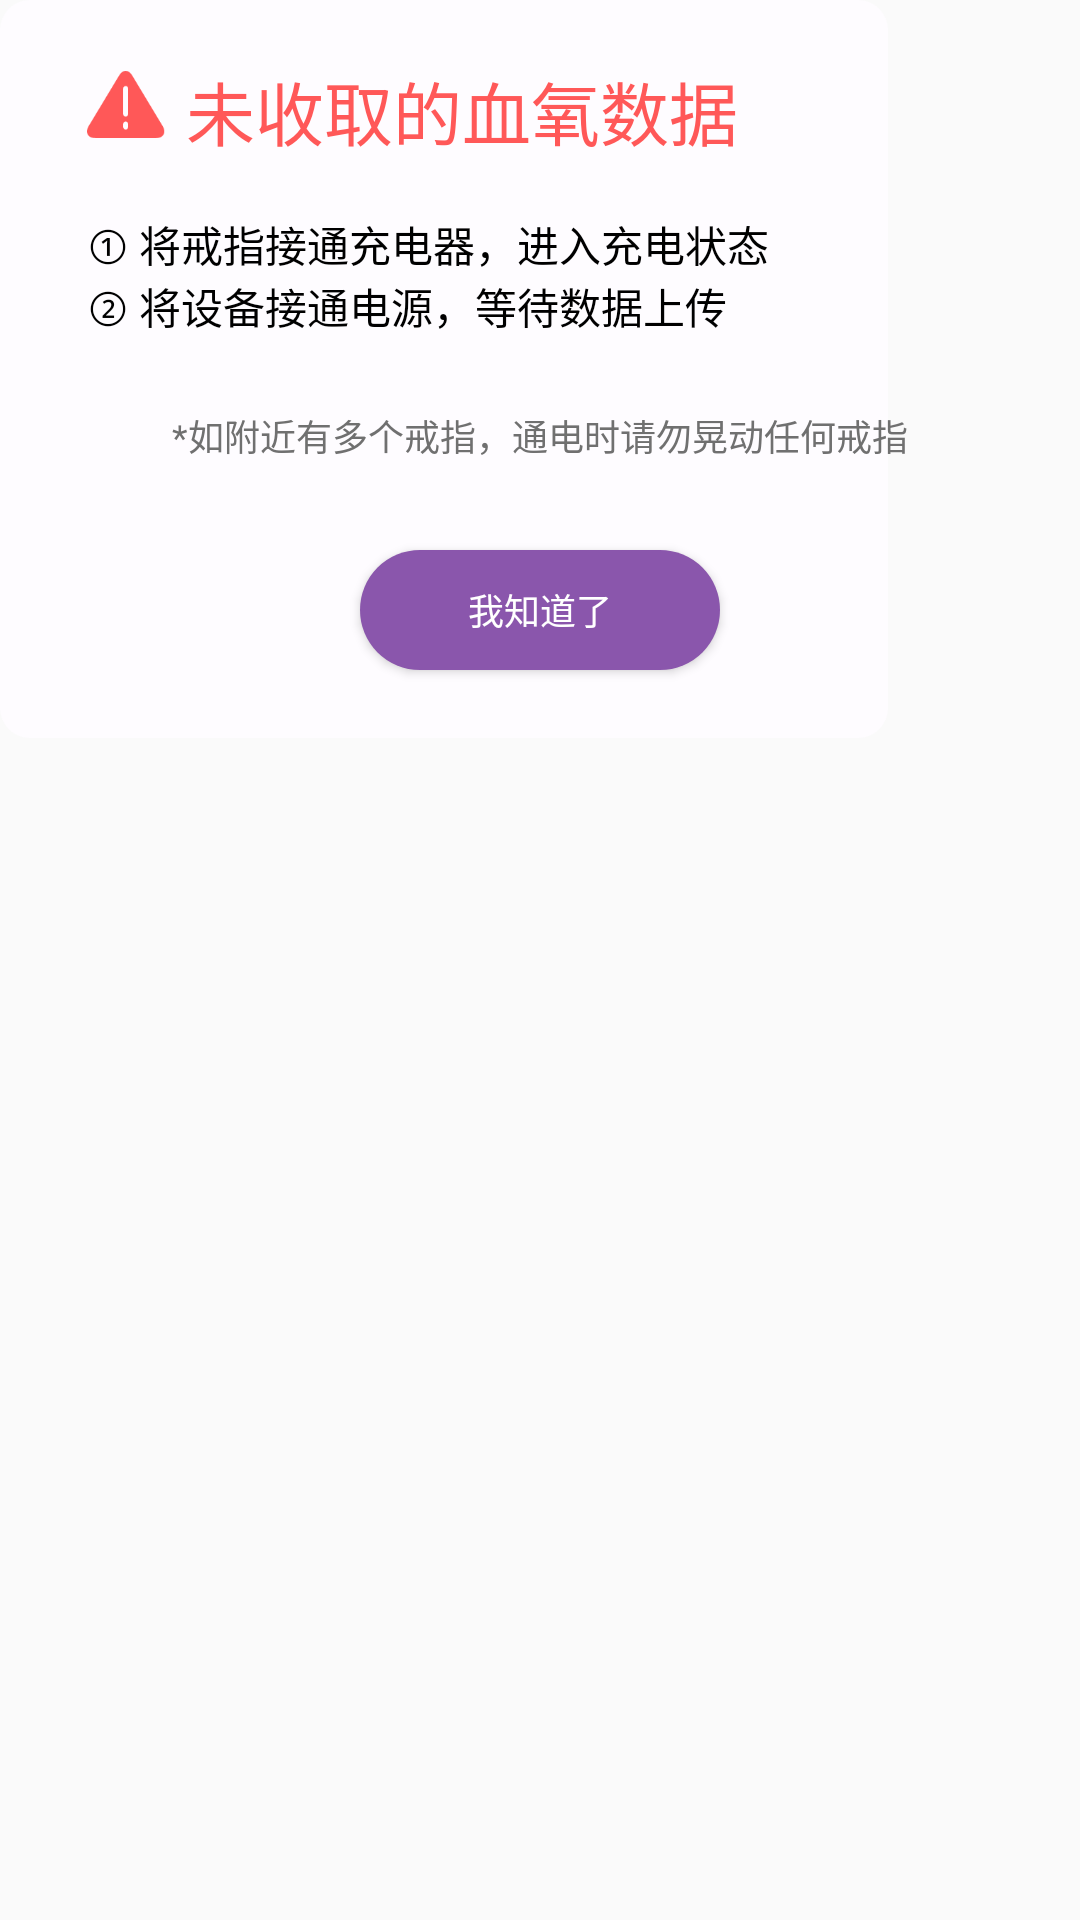

Where to tap for icons on this 1080x1920 app screen, as (x,y):
warning: (126,104)
